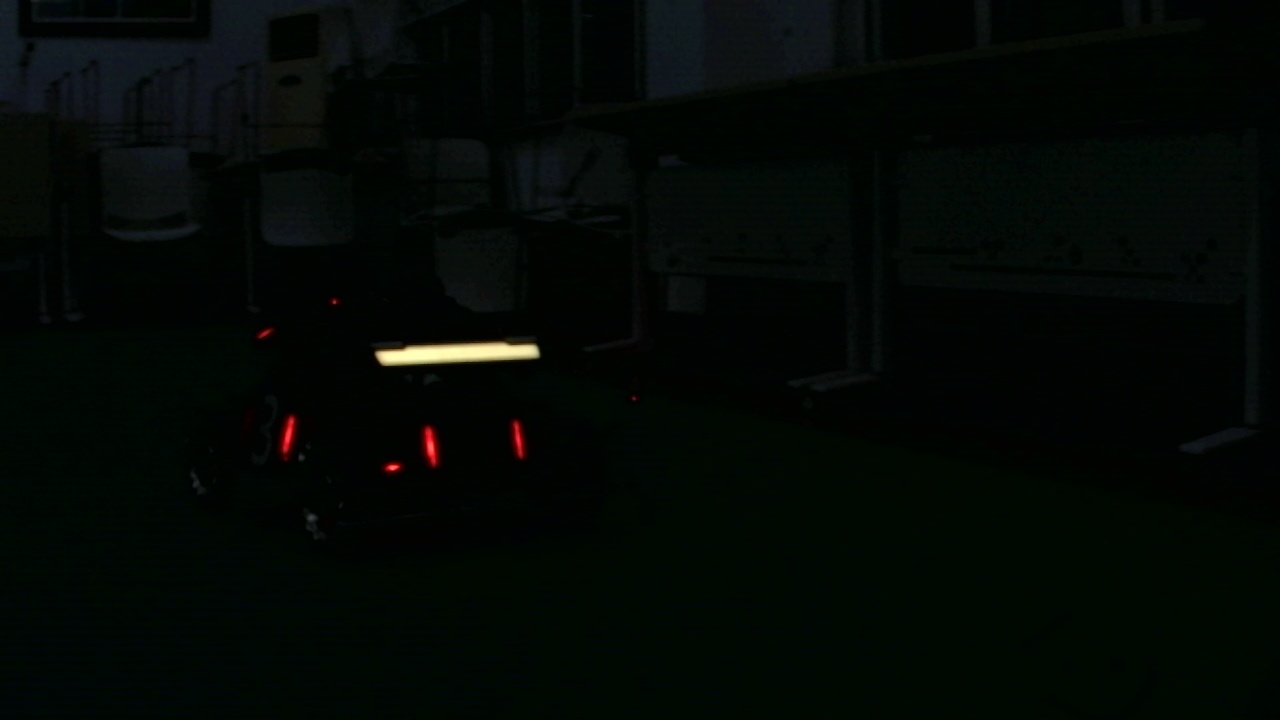lamp: (419, 422, 442, 473), (274, 410, 294, 460), (511, 417, 527, 473)
notpair1: (276, 413, 442, 471)
pair1: (419, 423, 524, 469)
